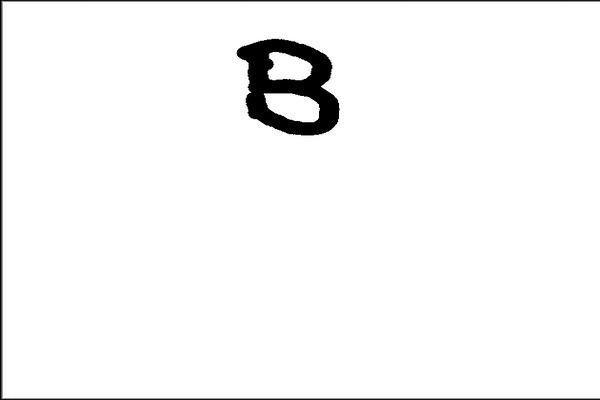B: (228, 30, 356, 149)
